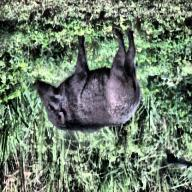boar: (32, 22, 149, 143)
